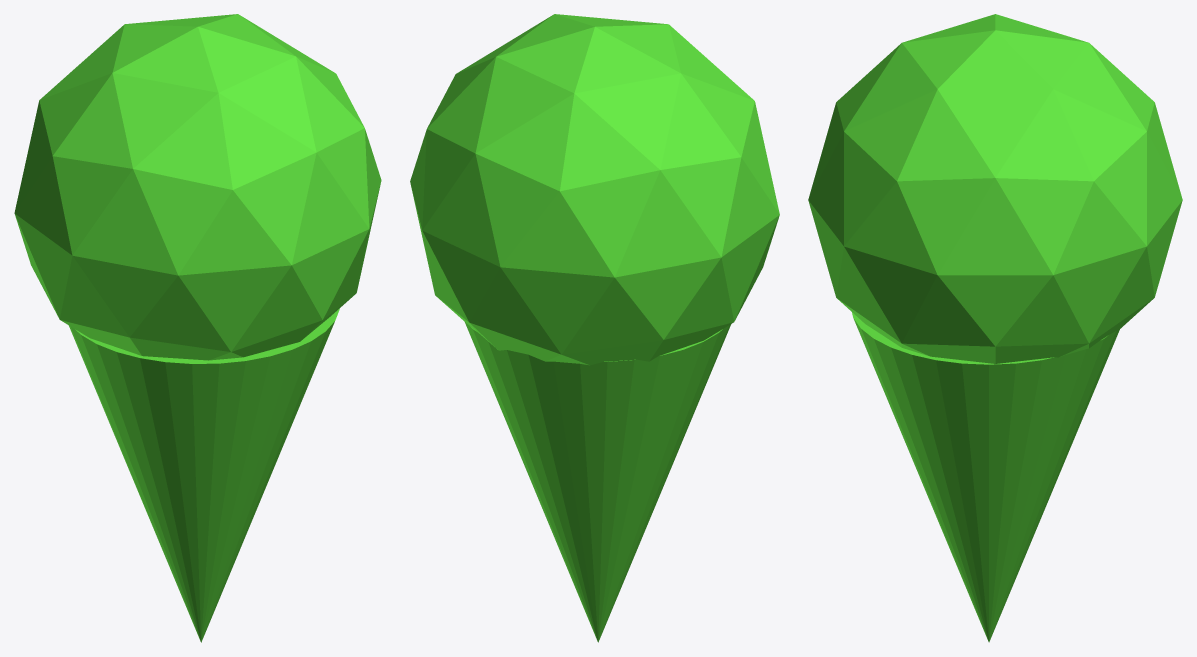
Rendered from pin-green.glb.
3 views of the same model, side by side, from view 1: azimuth 30°, elevation 25°; view 2: azimuth 150°, elevation 25°; view 3: azimuth 270°, elevation 25° (orthographic).
Parts seen in each view (by area): view 1: Icosphere, Cone; view 2: Icosphere, Cone; view 3: Icosphere, Cone.
Boxes of the visible parts, left/top/right/bottom form: Icosphere: left=14, top=14, right=381, bottom=360; Cone: left=69, top=309, right=339, bottom=642; Icosphere: left=410, top=14, right=779, bottom=365; Cone: left=465, top=322, right=731, bottom=642; Icosphere: left=808, top=14, right=1182, bottom=363; Cone: left=852, top=312, right=1119, bottom=642.
Bounding box in the file's own units: 0.0881 × 0.1673 × 0.0927.
